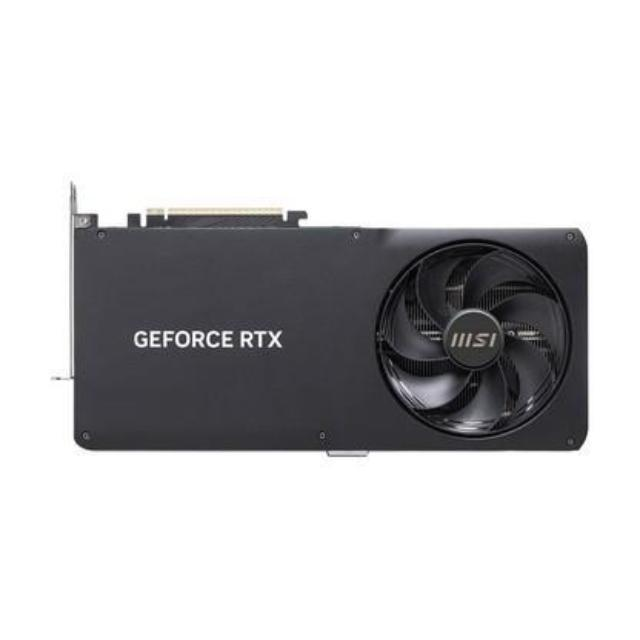GPU: (54, 194, 603, 468)
